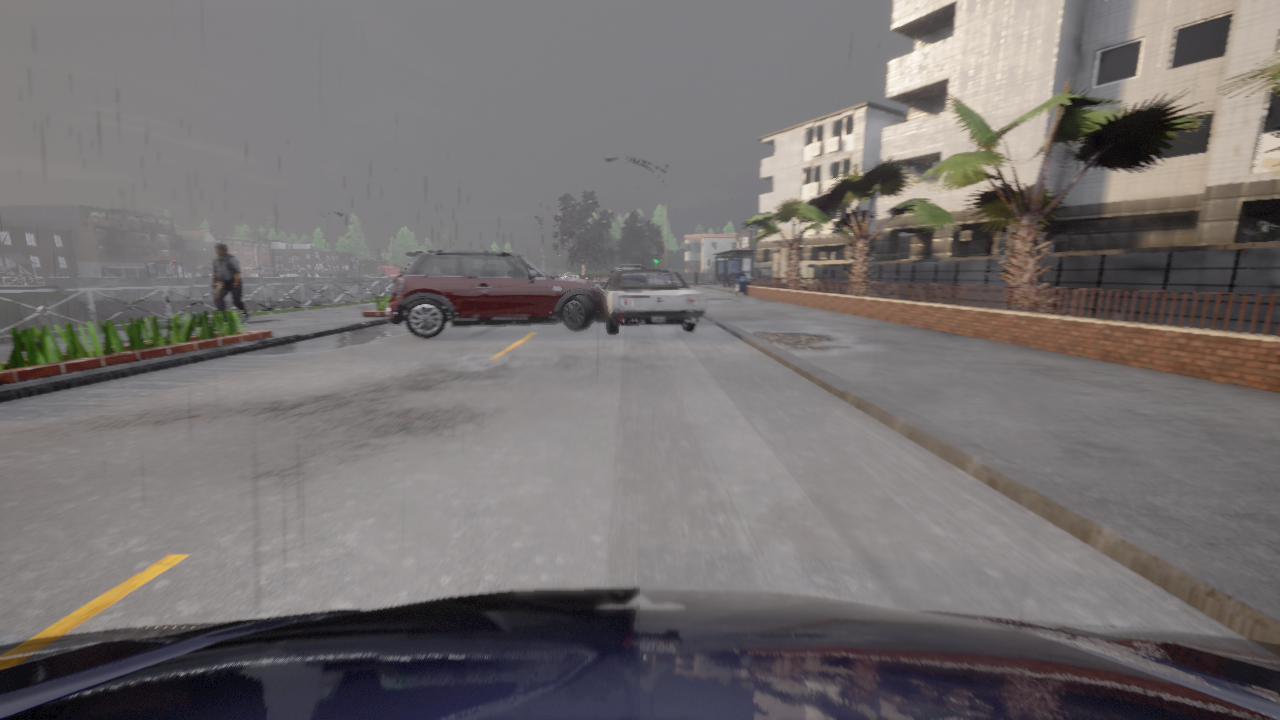cyclist: (0, 588, 1279, 719), (387, 249, 606, 337), (601, 270, 706, 333), (609, 265, 640, 276), (615, 262, 644, 269), (702, 274, 723, 283)
pedestrian: (212, 243, 250, 321)
